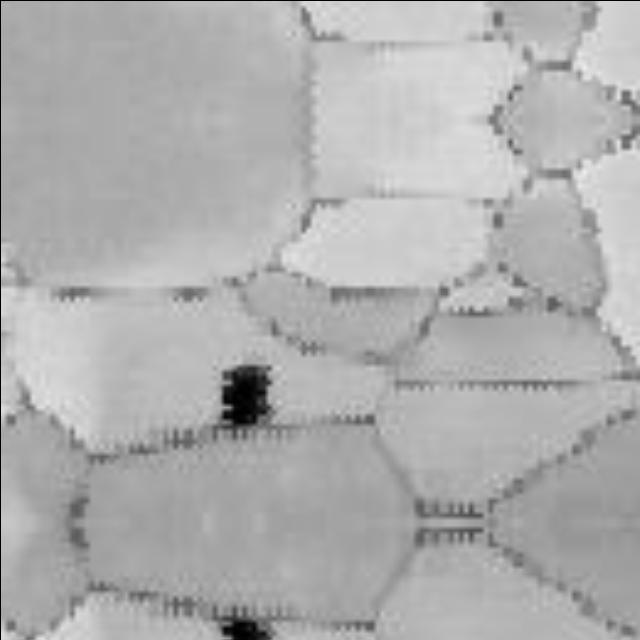good_void: (213, 355, 281, 439), (213, 604, 281, 640)
